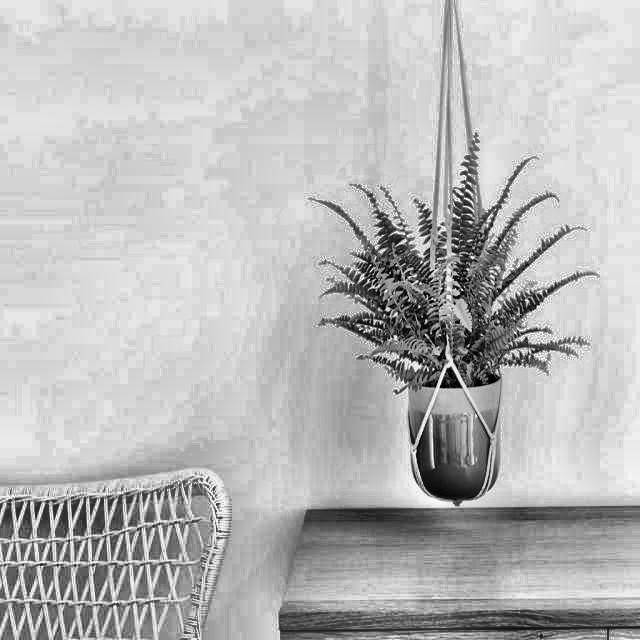plants: (318, 152, 588, 492)
